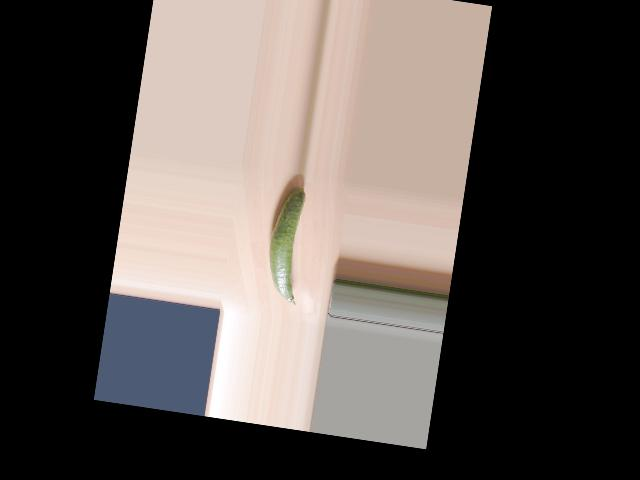cucumber: (260, 183, 312, 306)
